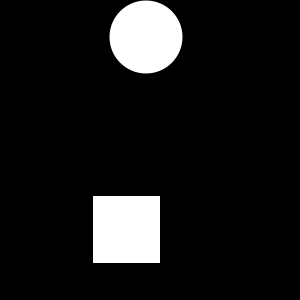circle: (93, 196, 160, 263)
rectangle: (110, 0, 183, 74)
